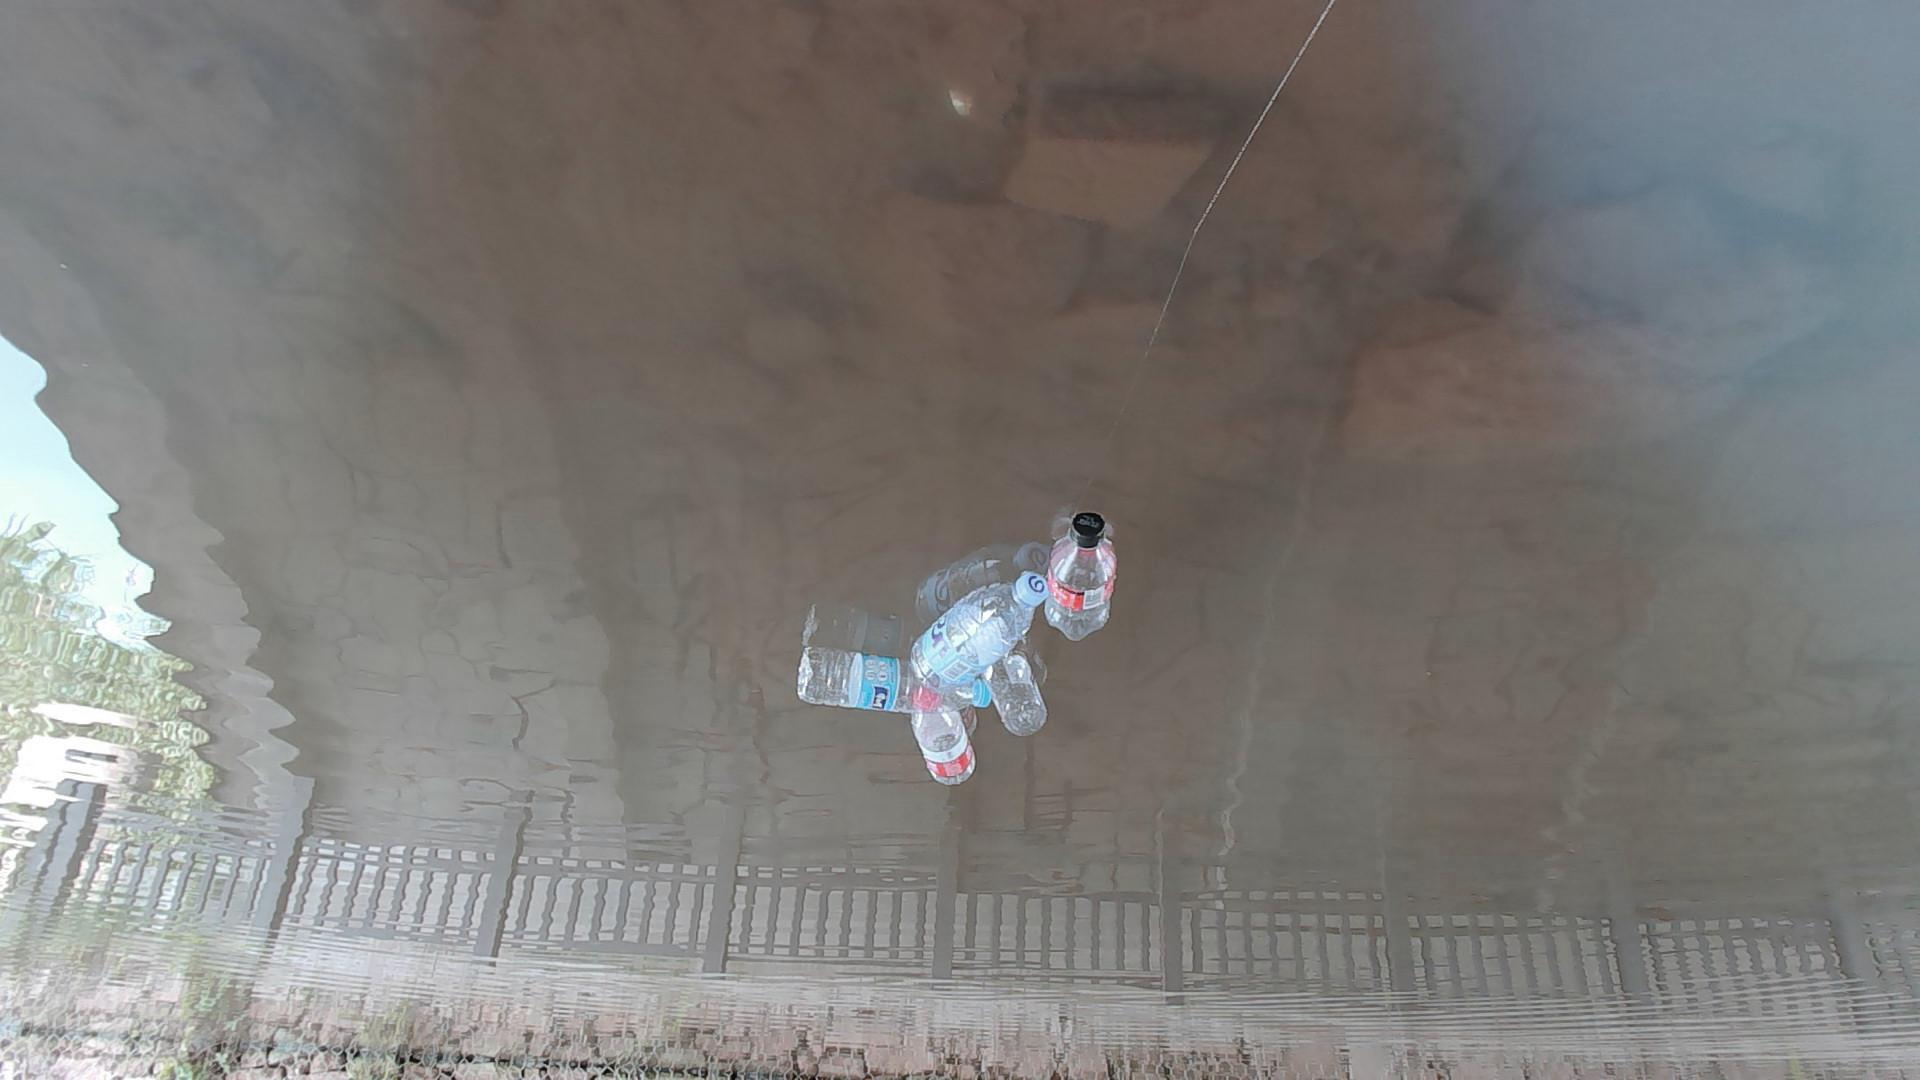Plastic: (901, 568, 1044, 698), (789, 647, 988, 723), (1042, 506, 1120, 650), (903, 698, 986, 793)
